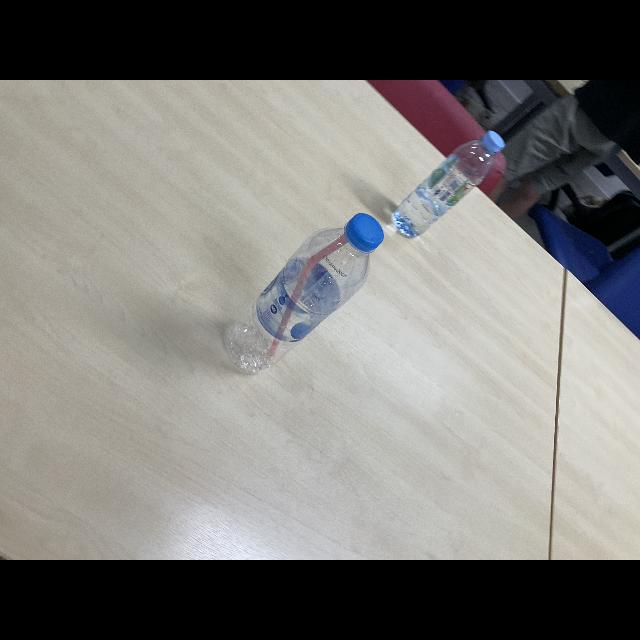plastic_bottle: (222, 212, 384, 376), (392, 130, 506, 238)
plastic_bottle_cap: (343, 214, 382, 252), (483, 129, 505, 153)
straw: (266, 232, 348, 362)
